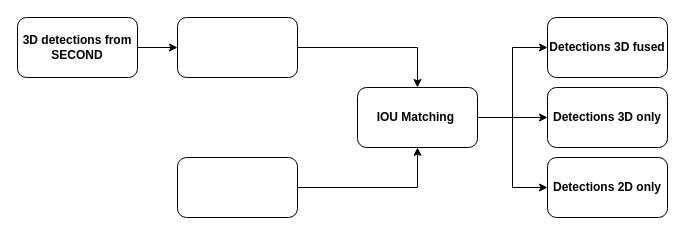
This 685x235 diagram has some shape labels left out. Here are the shapes that lost their labels. From the top down, the box of each, then its label:
(176, 16, 298, 78): 3D detection projected onto image domain
(176, 156, 298, 218): 2D Detections from YOLOv7
